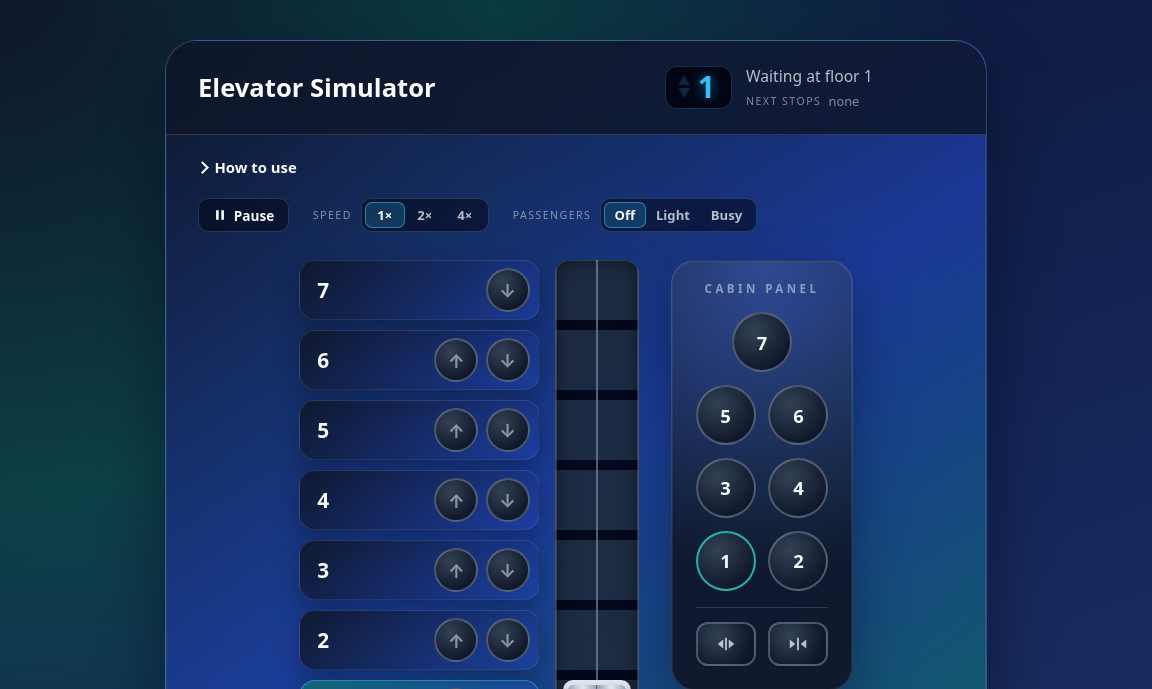
it: 2× speed halves the trip, and pausing freezes the car
Click the button "2×": (425, 215) [405, 202, 445, 228]
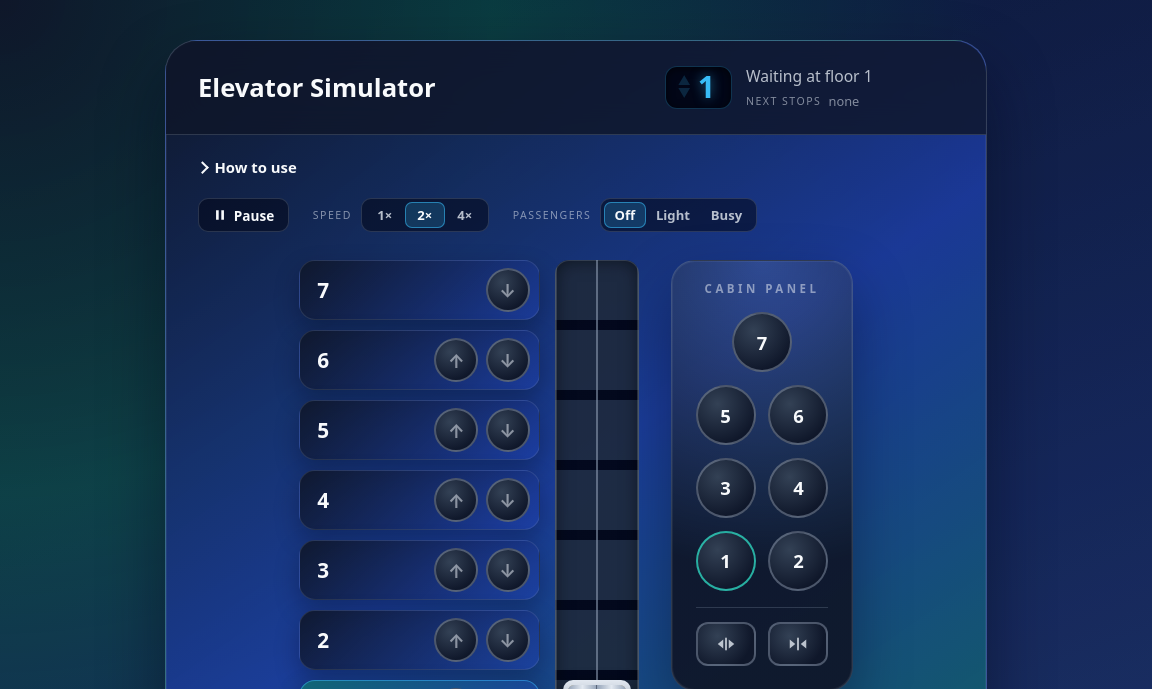
Click the button named "Go to floor 5": (726, 415) [696, 385, 756, 445]
Wait 3550 ms
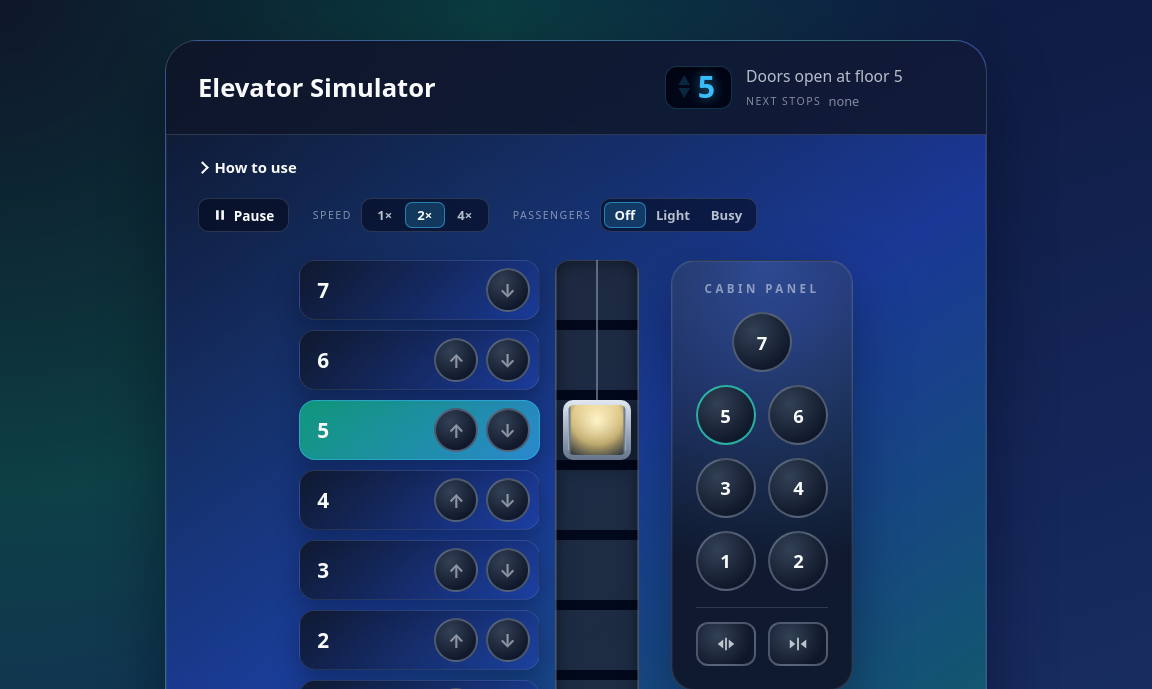
Now the text "Doors open at floor 5" is shown, box [746, 65, 903, 87]
Click the button named "Go to floor 2": (798, 561) [768, 531, 828, 591]
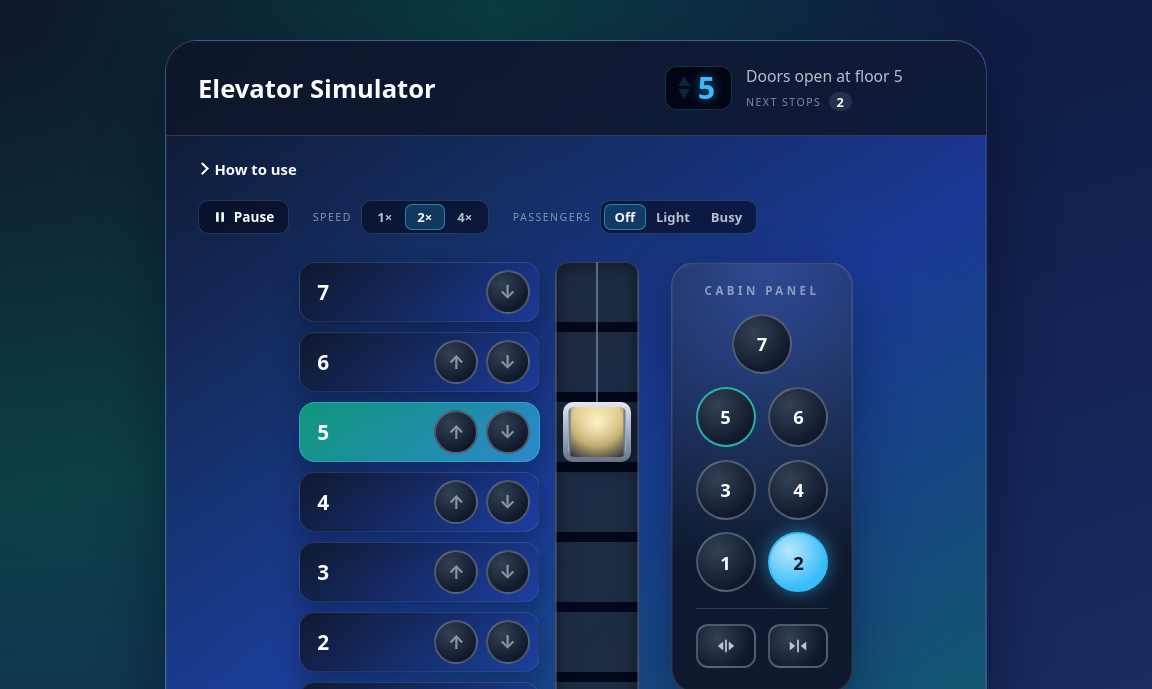
Click the button "Pause": (243, 217) [198, 200, 289, 234]
Wait 60000 ms
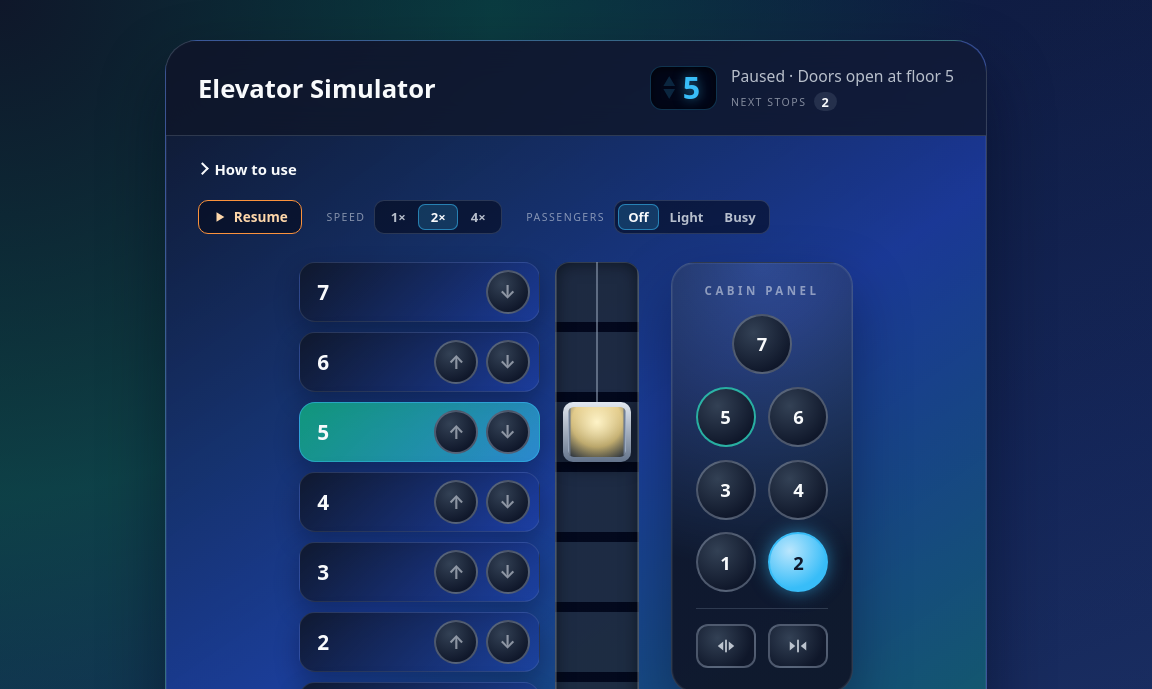
Now the text "Paused · Doors open at floor 5" is shown, box [731, 65, 954, 87]
Click the button "Resume": (250, 217) [198, 200, 302, 234]
Wait 60000 ms
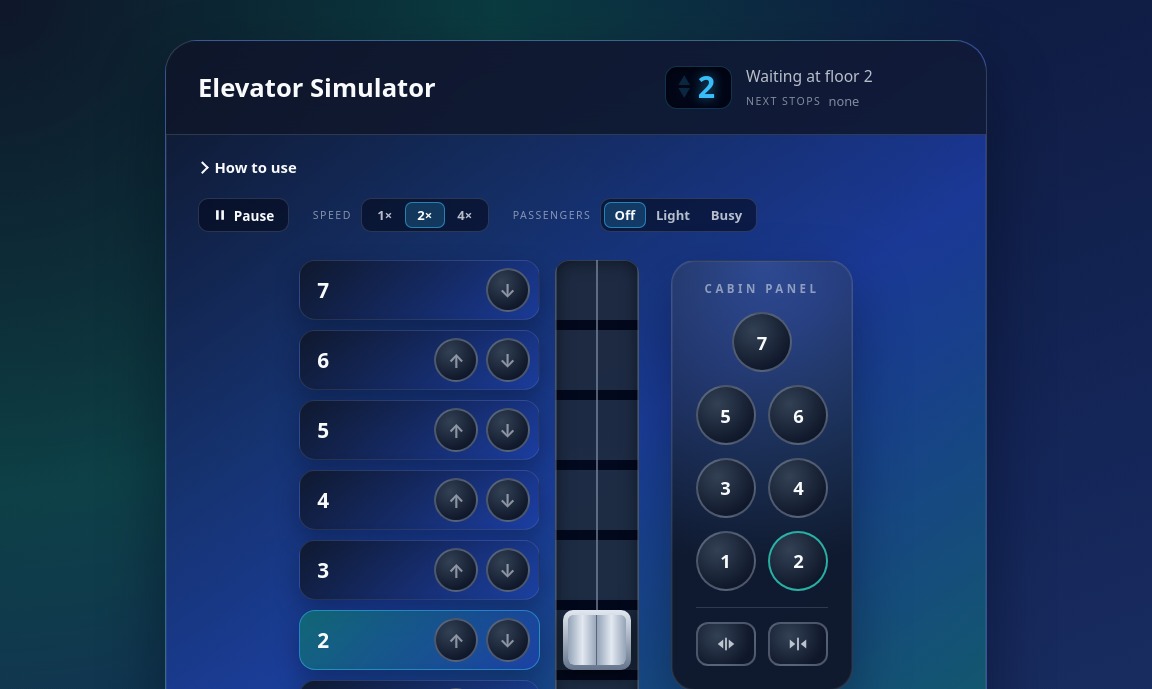
Now the text "Waiting at floor 2" is shown, box [746, 65, 873, 87]
